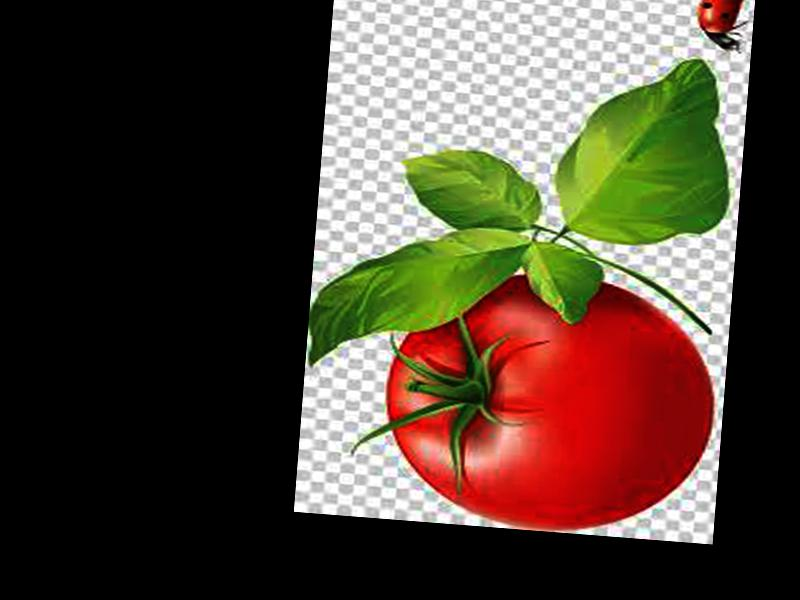Tomato: (377, 265, 722, 541)
